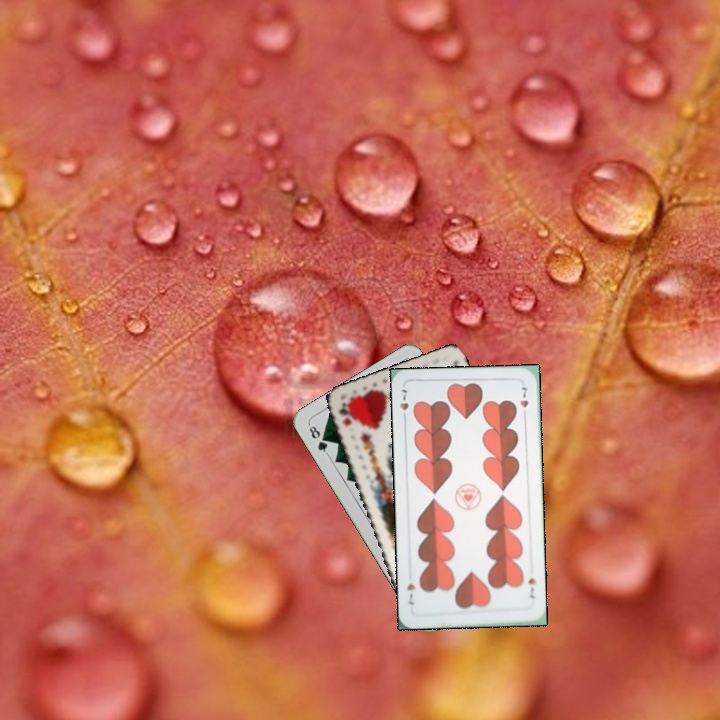G8: (305, 420, 331, 457)
H7: (395, 385, 411, 424), (524, 574, 538, 601)
HK: (335, 399, 356, 430)
